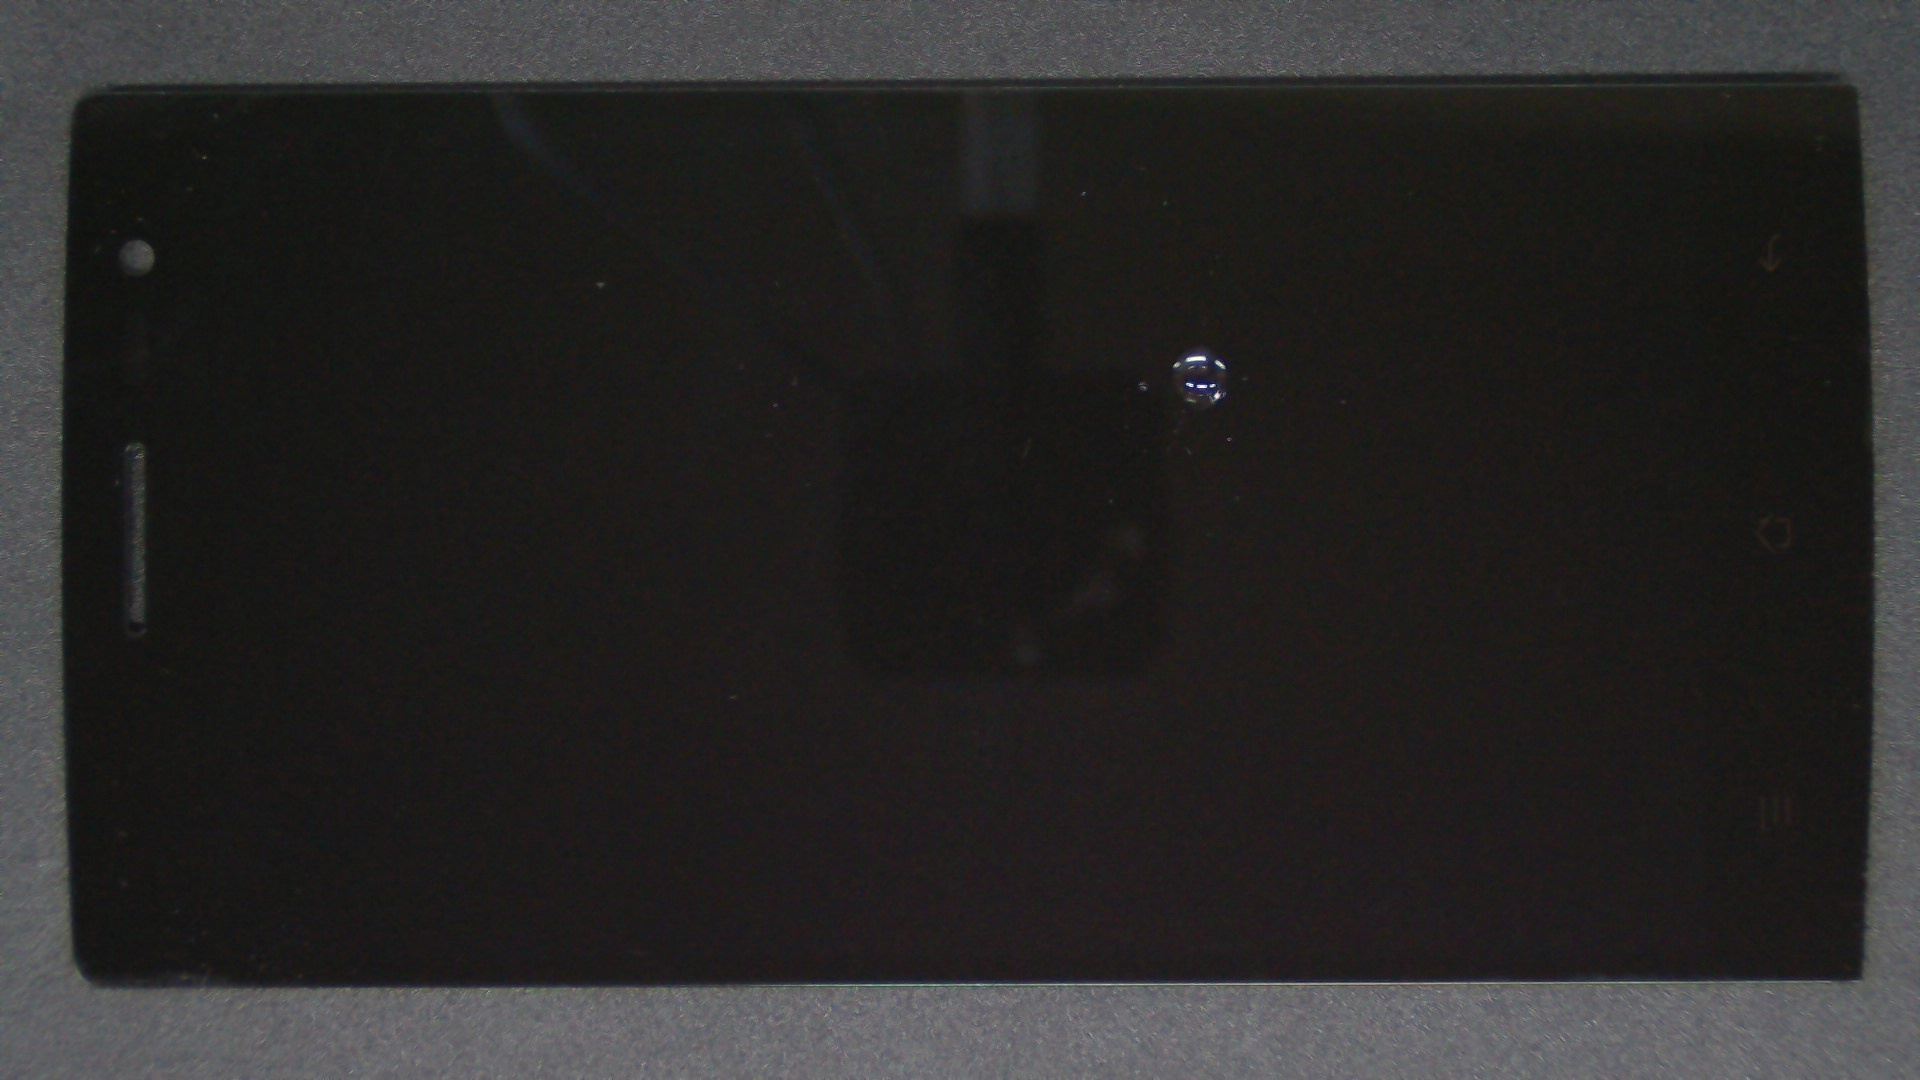oil: (599, 173, 1795, 520)
